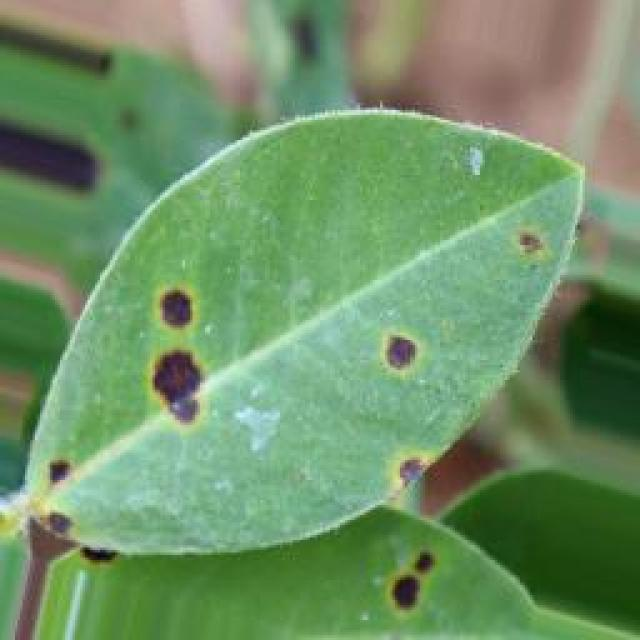Sigatoka: (119, 241, 227, 416), (352, 526, 460, 614), (355, 437, 461, 524), (487, 225, 559, 306), (25, 432, 95, 514), (364, 318, 416, 394)
